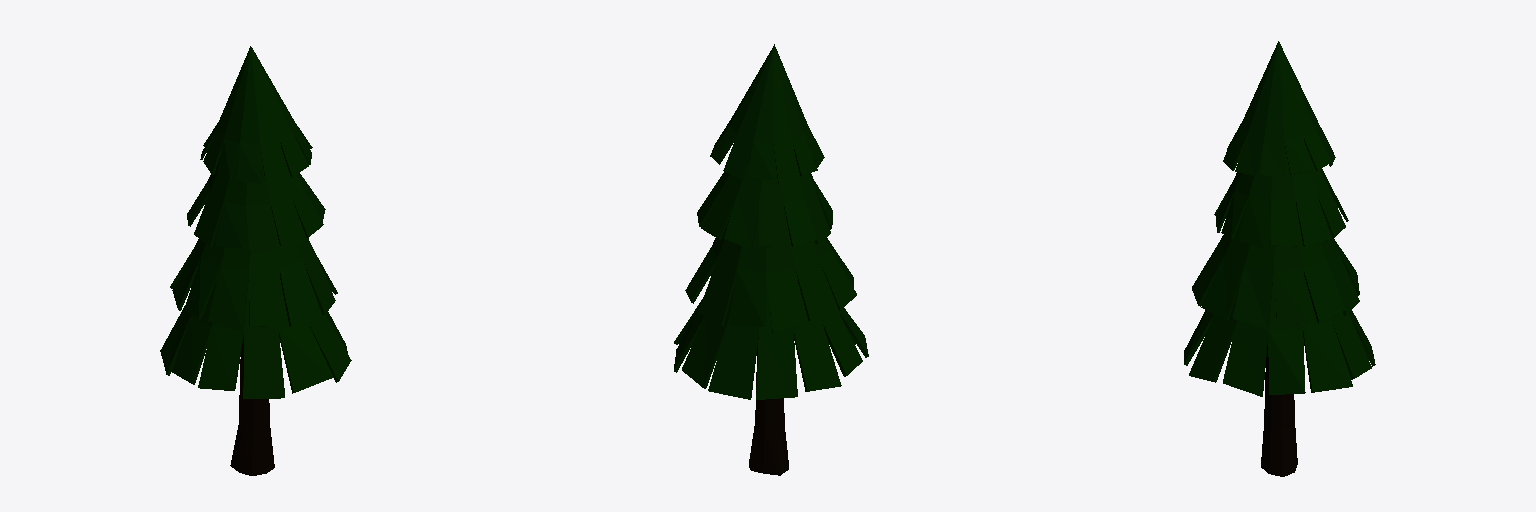
Rendered from cone-tree.obj.
3 views of the same model, side by side, from view 1: azimuth 30°, elevation 25°; view 2: azimuth 150°, elevation 25°; view 3: azimuth 270°, elevation 25° (orthographic).
Visible parts, largest first — view 1: Tree2; view 2: Tree2; view 3: Tree2.
Boxes of the visible parts, x1,y1,x2,y2 form: Tree2: [160, 46, 351, 475]; Tree2: [674, 44, 868, 475]; Tree2: [1184, 41, 1375, 476].
Bounding box in the file's own units: 0.0655 × 0.1629 × 0.0665.